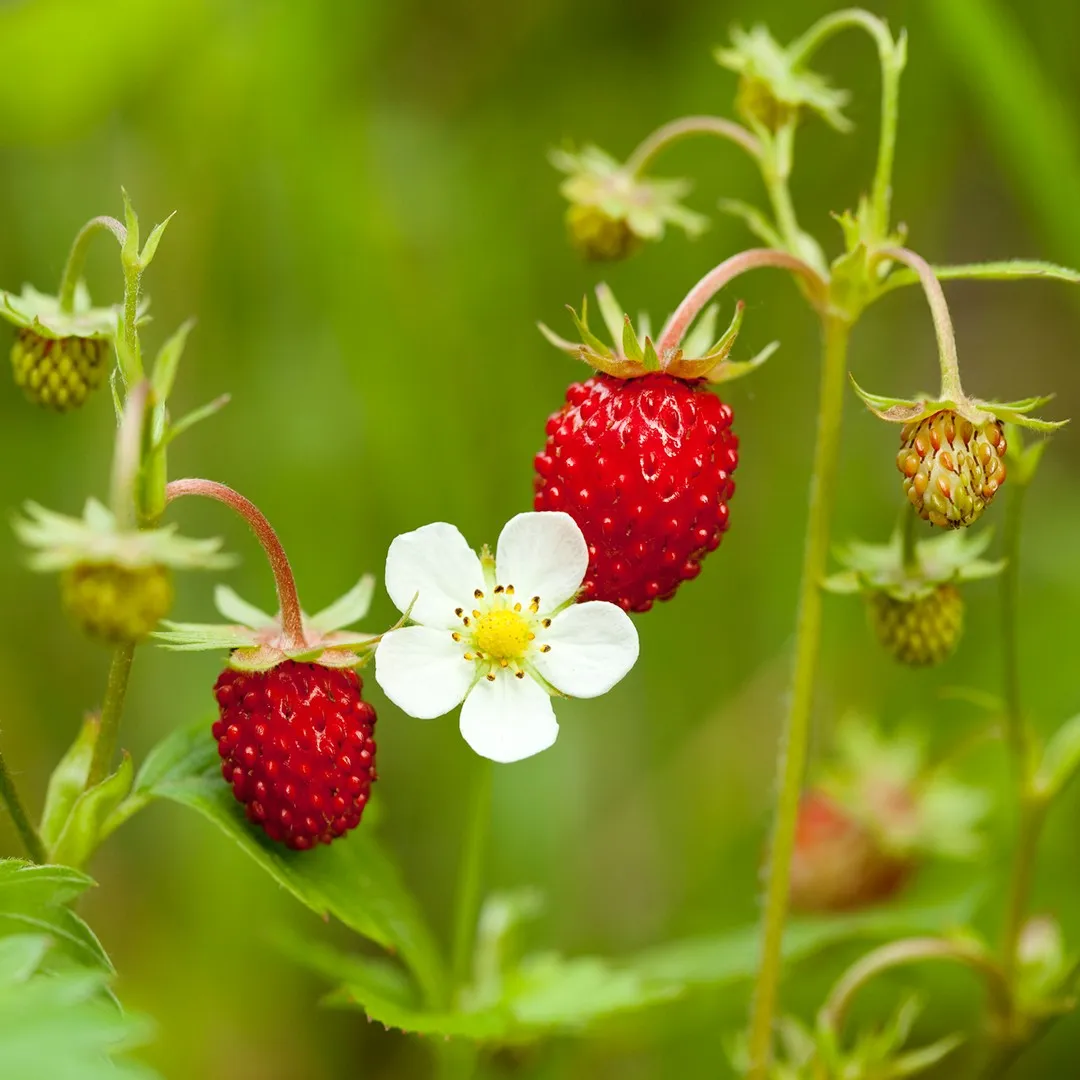peduncle: (166, 478, 305, 647), (656, 248, 827, 355)
strawberry: (534, 372, 737, 611), (213, 661, 375, 849)
